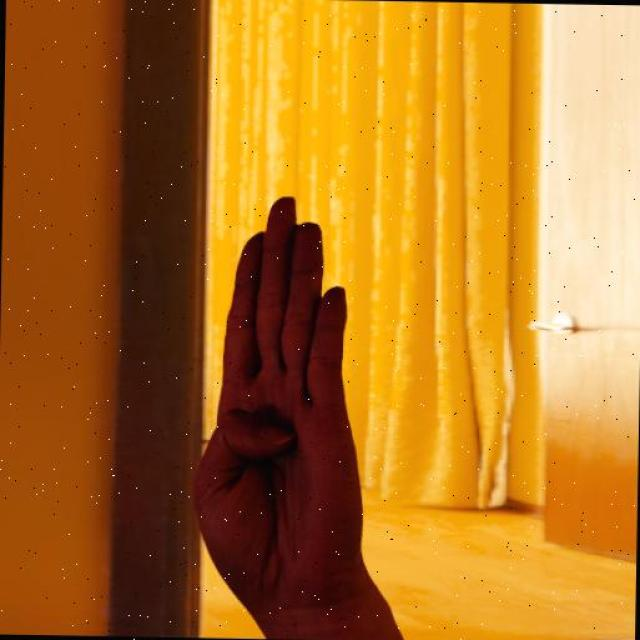B: (137, 167, 401, 640)
